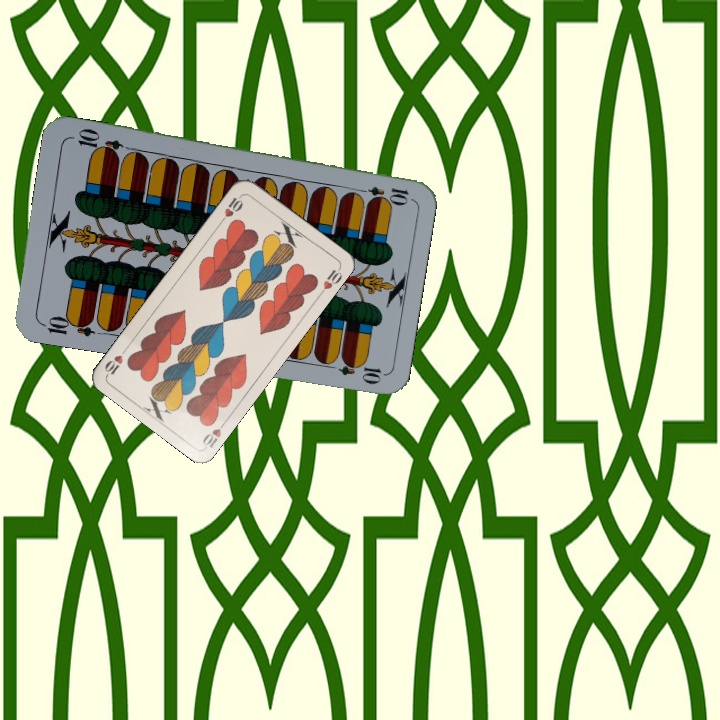E10: (37, 311, 96, 339), (352, 182, 411, 204)
H10: (198, 415, 230, 451), (216, 191, 246, 226)
